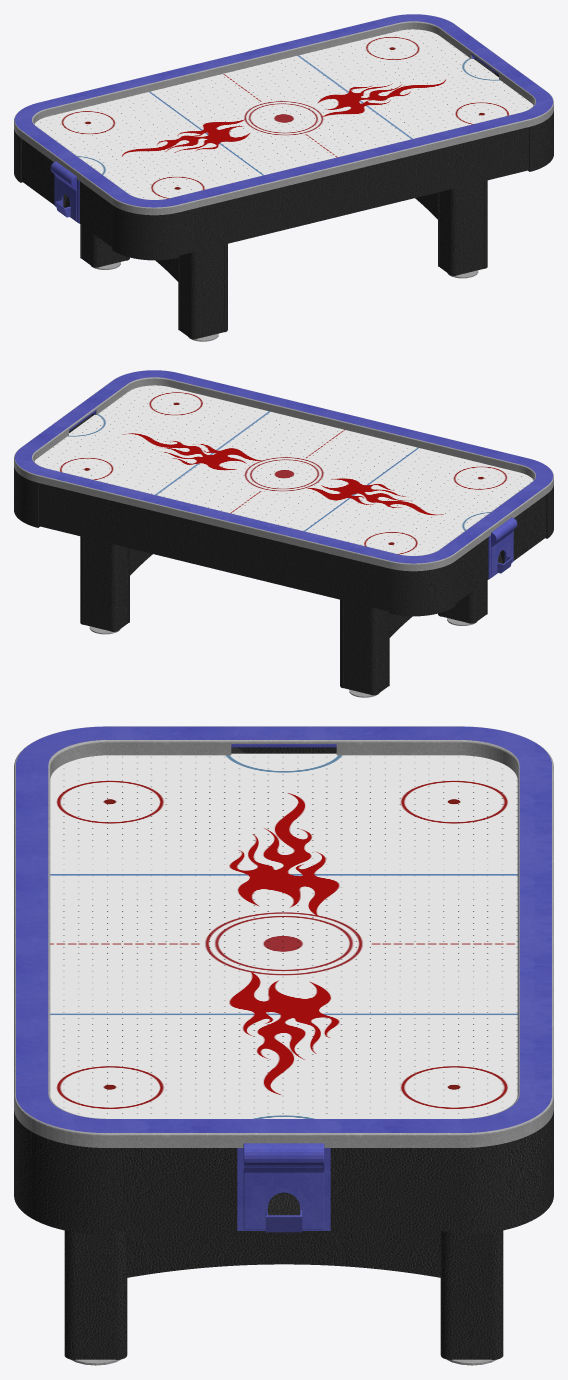
The model's file is AirHockey01.fbx.
The picture shows the model from 3 angles, top to bottom: view 1: azimuth 30°, elevation 25°; view 2: azimuth 150°, elevation 25°; view 3: azimuth 270°, elevation 25°; orthographic projection. The views are drawn at different scales.
Visible parts, largest first — view 1: AirHockey01_1; view 2: AirHockey01_1; view 3: AirHockey01_1.
Part boxes in pixels (box(x1,y1,x2,y2)): AirHockey01_1: box(14, 14, 553, 341); AirHockey01_1: box(14, 370, 553, 697); AirHockey01_1: box(14, 726, 553, 1365).
Bounding box in the file's own units: 258 × 86.14 × 140.
